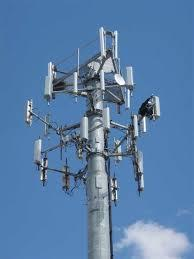antenna: (130, 151, 148, 194), (109, 26, 123, 64), (45, 60, 57, 98), (93, 22, 106, 56), (100, 103, 113, 131), (31, 137, 43, 166), (151, 92, 162, 123), (80, 115, 89, 147), (71, 73, 81, 100), (22, 97, 31, 124), (125, 65, 135, 86), (130, 115, 139, 137)
